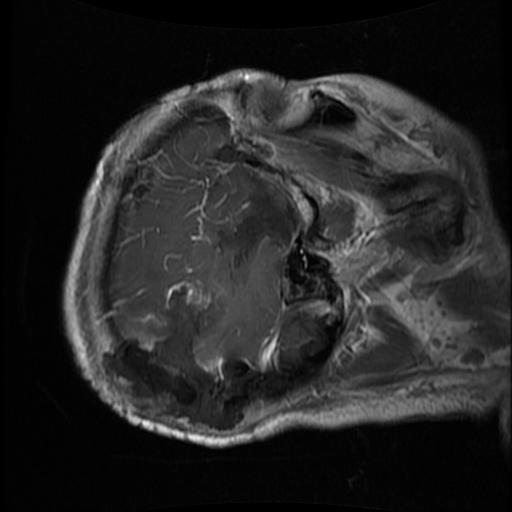glioma: (106, 287, 223, 421)
